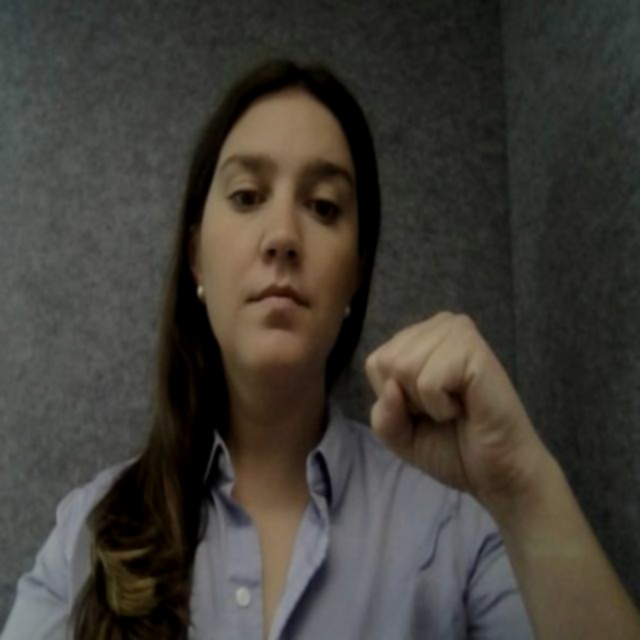Rock: (350, 304, 540, 513)
